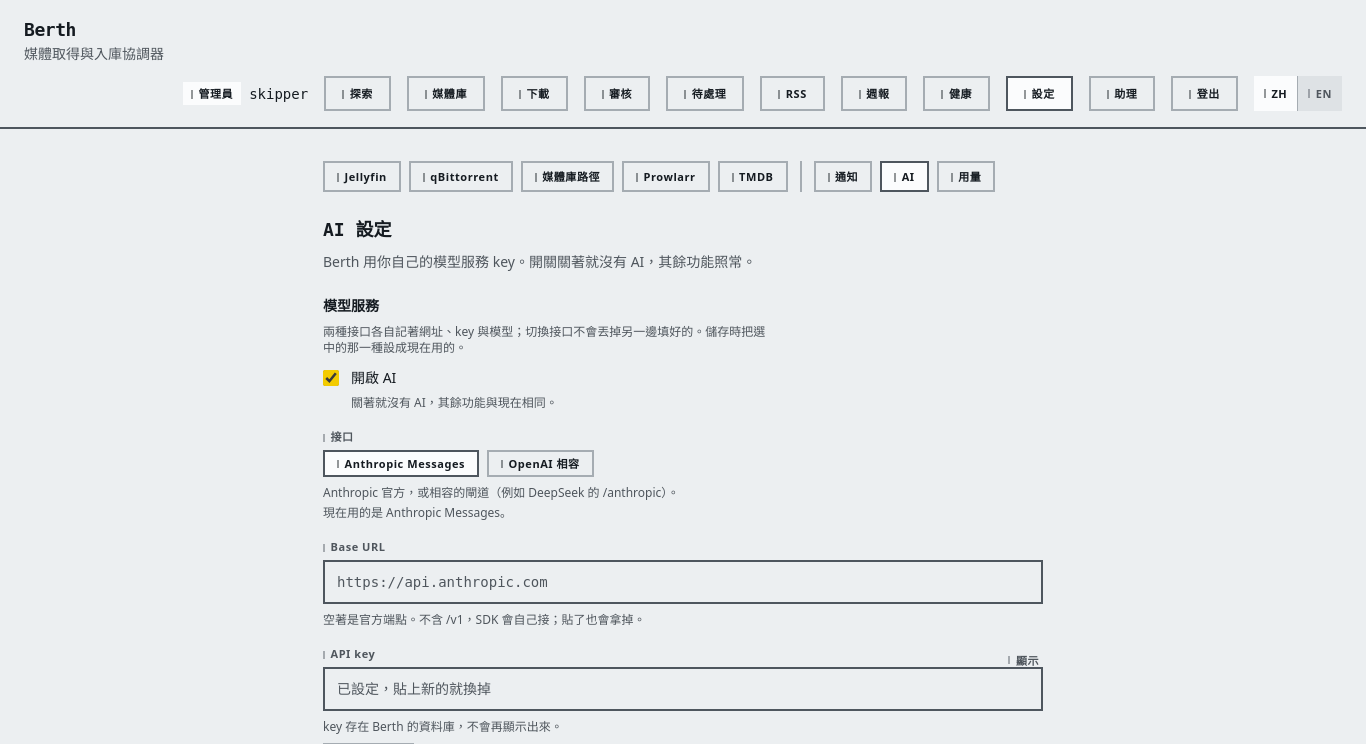
Test: 設定 → AI › 切換接口：換成那一種存著的值；認不得的模型價目寫未知，不當 0
Click the button "OpenAI 相容" at (540,464), box [487,450,594,477]
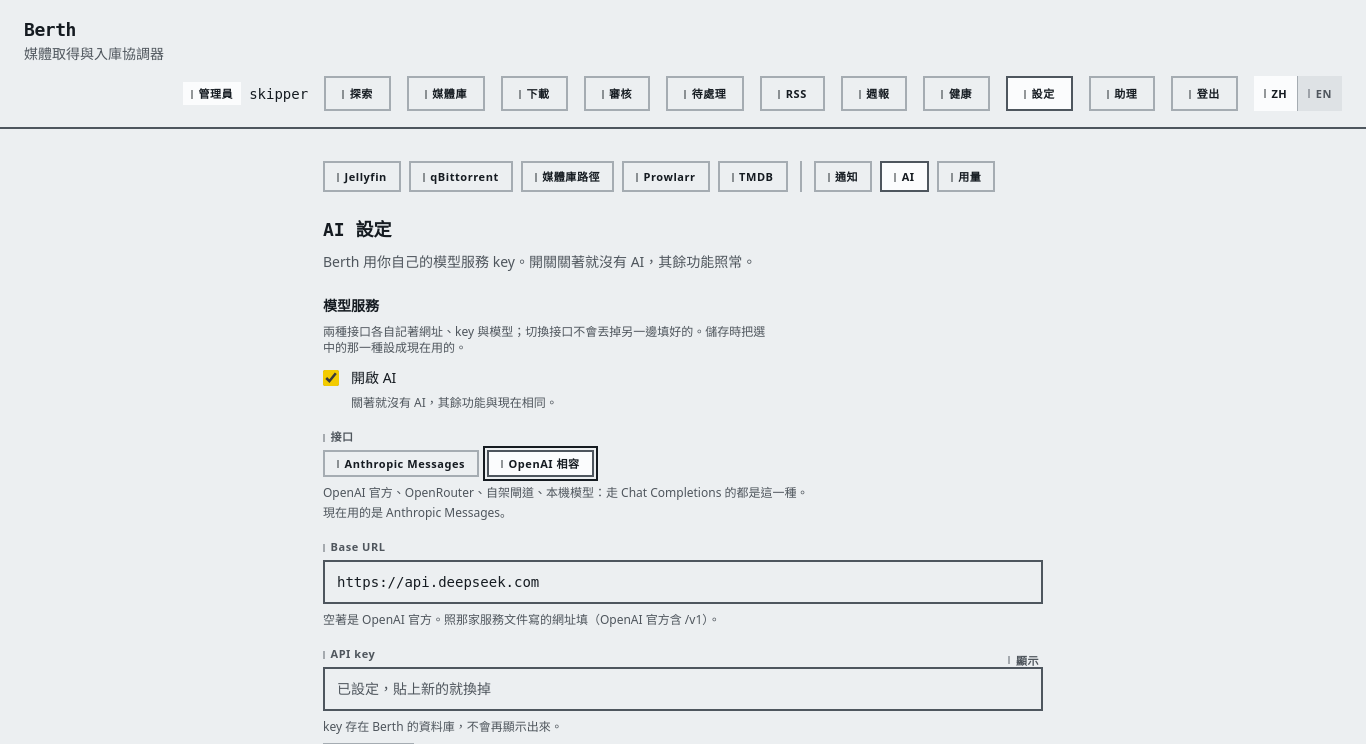
Expected: the text "現在用的是 Anthropic Messages。" is shown, [323,504,512,521]
Expected: the field labelled "Base URL" holds "https://api.deepseek.com", [323,560,1043,604]
